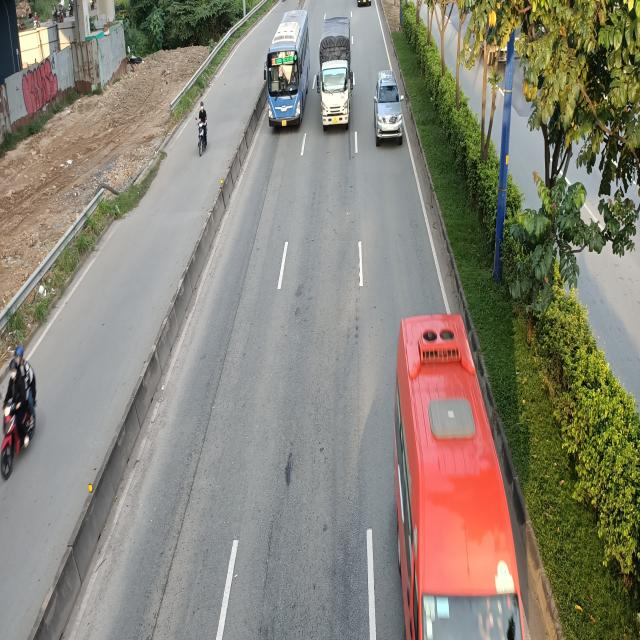car: (373, 72, 404, 146)
coach: (266, 7, 312, 128)
truck: (318, 17, 356, 131)
van: (392, 314, 526, 640)
